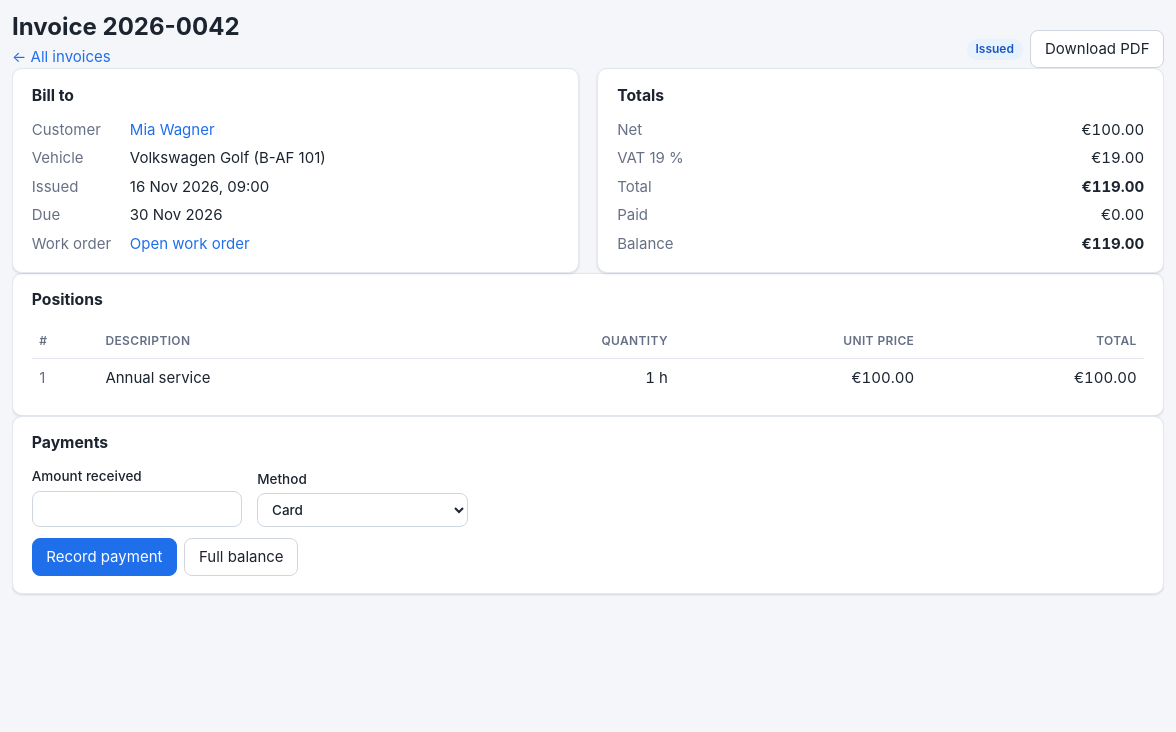
Scenario: InvoicePage › does not take a payment twice when a colleague recorded one in the meantime
The width and height of the screenshot is (1176, 732).
Click the button "Full balance".
click(241, 557)  # box [184,538,298,576]
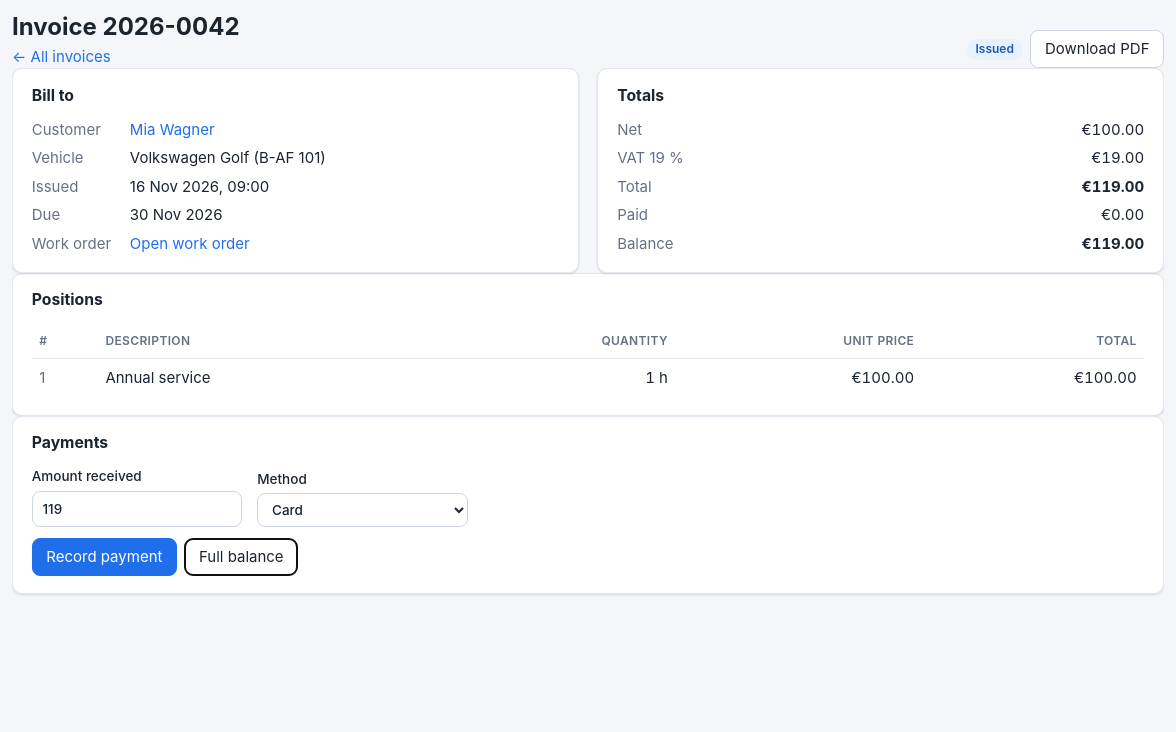
Click the button "Record payment".
click(104, 557)  # box [32,538,177,576]
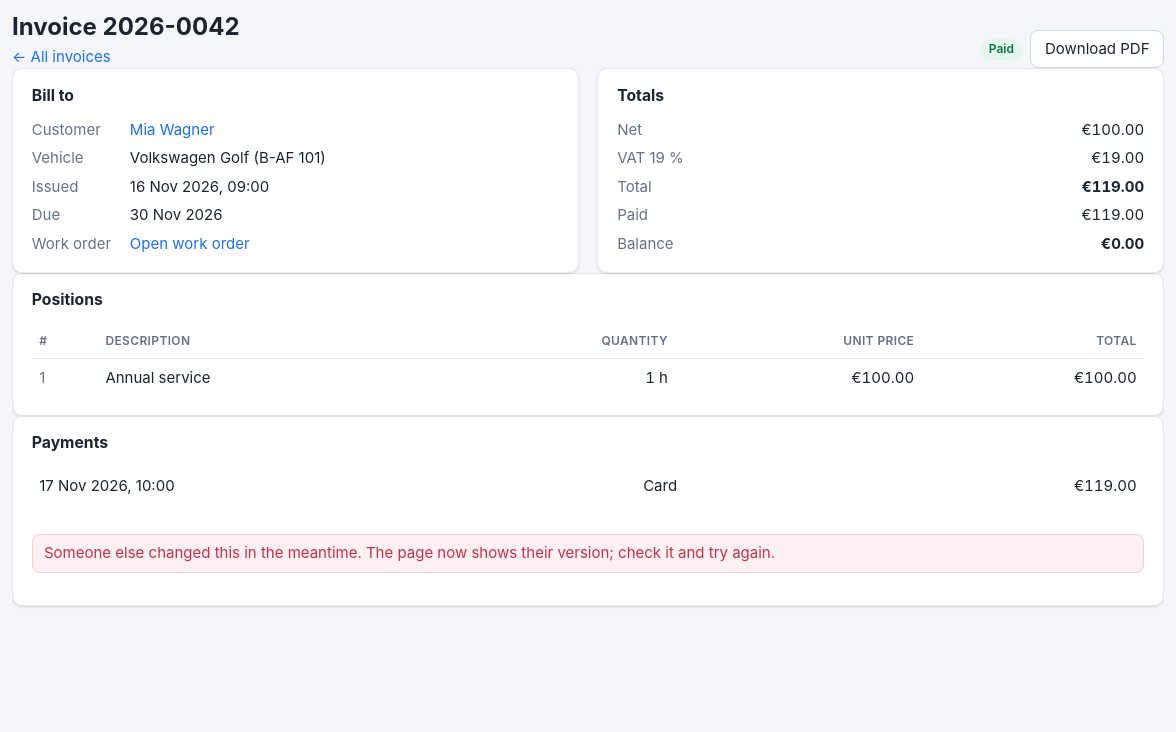
Check: the message shows "Someone else changed this in the meantime.", box [44,543,775,562]
Check: the text "Paid" in the row of "Invoice 2026-0042" is shown, box [989,41,1014,56]
Check: the button "Record payment" is gone
